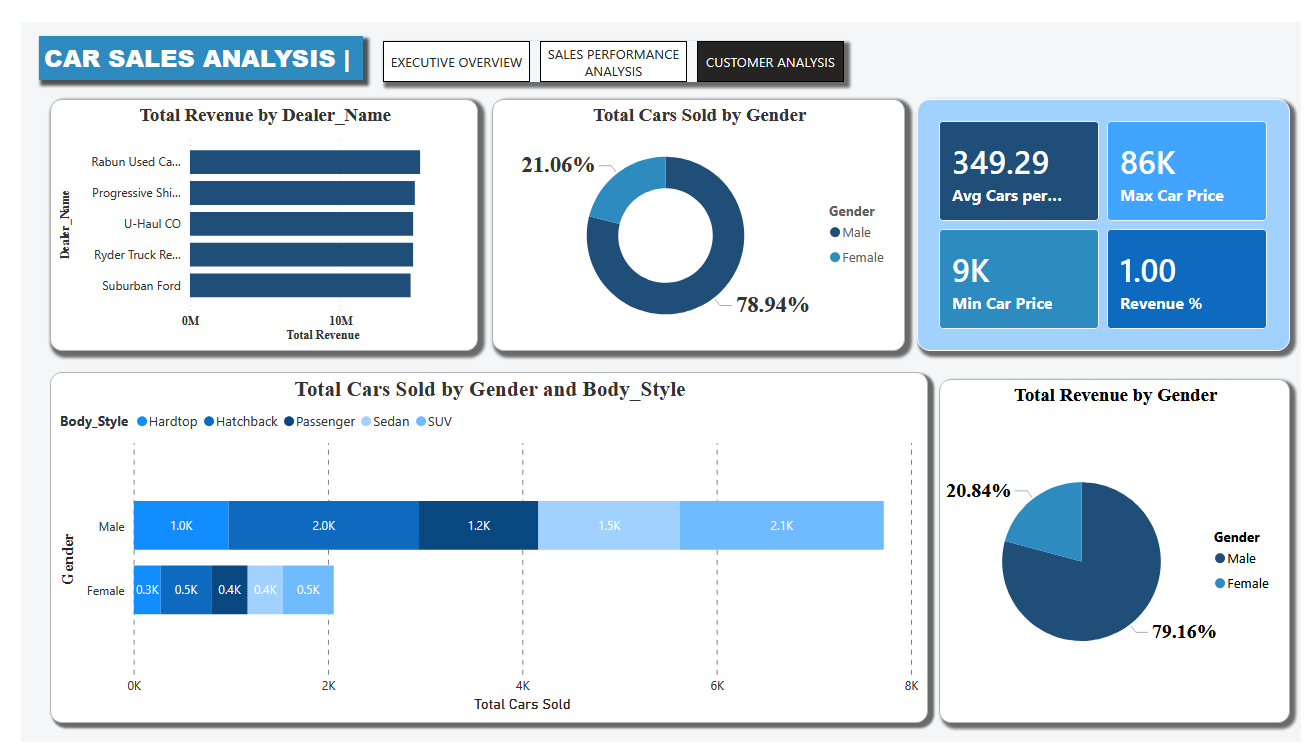

The page's visual inventory and layout, read from the dashboard file:
{"tool":"powerbi","page":{"name":"CUSTOMER  ANALYSIS","canvas":[1280,720],"ordinal":2},"visuals":[{"type":"textbox","box":[17.9,14.3,323.8,44],"z":0},{"type":"barChart","fields":{"Category":["Car Sales.Dealer_Name"],"Y":["Car Sales.Total Revenue"]},"box":[28.8,76.8,428.1,252.5],"z":1000},{"type":"donutChart","fields":{"Y":["Car Sales.Total Cars Sold"],"Category":["Car Sales.Gender"]},"box":[470.7,76.8,413,252.5],"z":2000},{"type":"barChart","fields":{"Y":["Car Sales.Total Cars Sold"],"Category":["Car Sales.Gender"],"Series":["Car Sales.Body_Style"]},"box":[28.8,349.9,878.2,351.3],"z":3000},{"type":"pieChart","fields":{"Category":["Car Sales.Gender"],"Y":["Car Sales.Total Revenue"]},"box":[918,356.8,351.3,344.4],"z":4000},{"type":"cardVisual","fields":{"Data":["Car Sales.Avg Cars per Dealer","Car Sales.Max Car Price","Car Sales.Min Car Price","Car Sales.Revenue %"]},"box":[896.1,76.8,373.2,252.5],"z":5000},{"type":"pageNavigator","box":[362.5,19,460.2,40.7],"z":6000}]}

Visuals, with their boxes in screenshot pixels (x1, y1, x2, y2), scaled from the page's 1280x720 canvas onto the 1312x752 screenshot:
textbox: [x1=18, y1=15, x2=350, y2=61]
barChart - Car Sales.Dealer_Name x Car Sales.Total Revenue: [x1=30, y1=80, x2=468, y2=344]
donutChart - Car Sales.Total Cars Sold x Car Sales.Gender: [x1=482, y1=80, x2=906, y2=344]
barChart - Car Sales.Total Cars Sold x Car Sales.Gender: [x1=30, y1=365, x2=930, y2=732]
pieChart - Car Sales.Gender x Car Sales.Total Revenue: [x1=941, y1=373, x2=1301, y2=732]
cardVisual - Car Sales.Avg Cars per Dealer x Car Sales.Max Car Price: [x1=919, y1=80, x2=1301, y2=344]
pageNavigator: [x1=372, y1=20, x2=843, y2=62]
